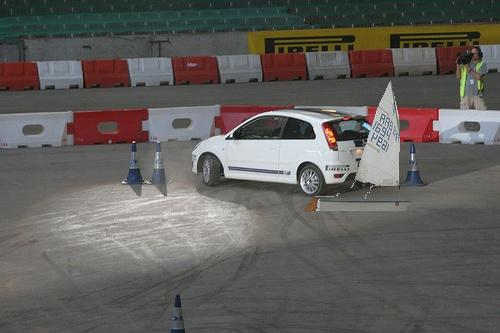tampered: (305, 81, 411, 211)
